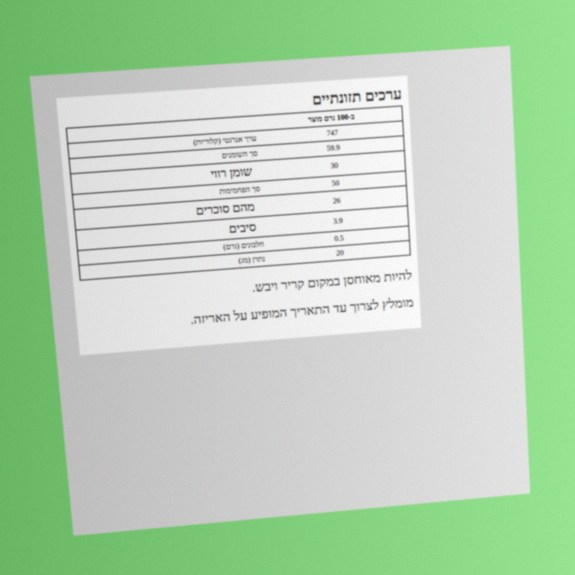carbs: (330, 178, 340, 188)
energy: (325, 127, 339, 138)
fat: (325, 142, 341, 153)
protein: (333, 233, 345, 243)
